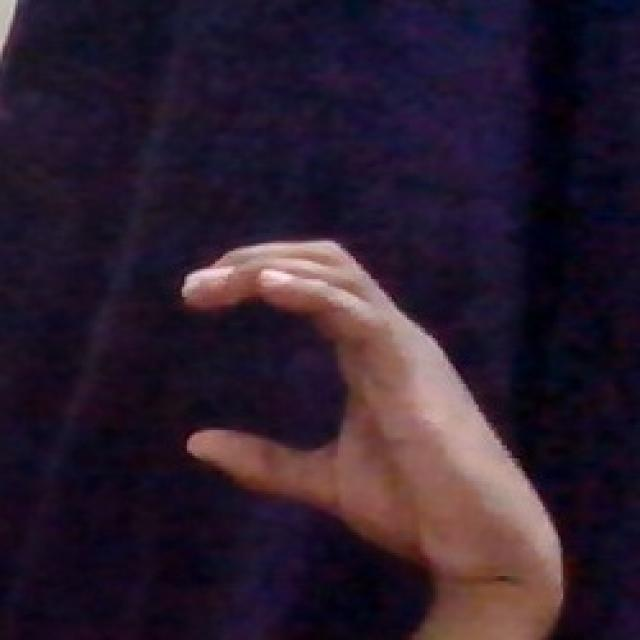Alphabet-C: (163, 225, 565, 583)
